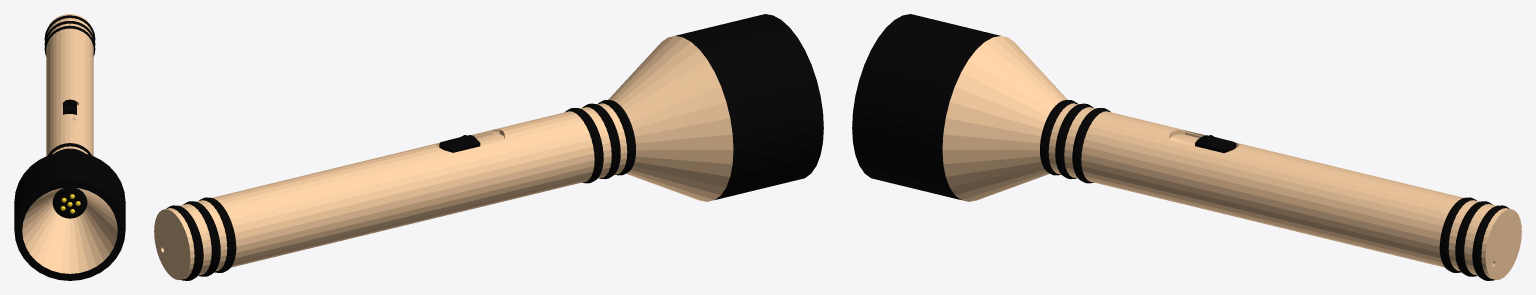
The model's file is Toy27.fbx.
The picture shows the model from 3 angles, left to right: view 1: azimuth 30°, elevation 25°; view 2: azimuth 150°, elevation 25°; view 3: azimuth 270°, elevation 25°; orthographic projection. The views are drawn at different scales.
Visible parts, largest first — view 1: Toy27; view 2: Toy27; view 3: Toy27.
Boxes of the visible parts, left/top/right/bottom form: Toy27: left=14, top=14, right=125, bottom=280; Toy27: left=154, top=14, right=823, bottom=280; Toy27: left=852, top=14, right=1521, bottom=280.
Bounding box in the file's own units: 0.0962 × 0.0358 × 0.141.
